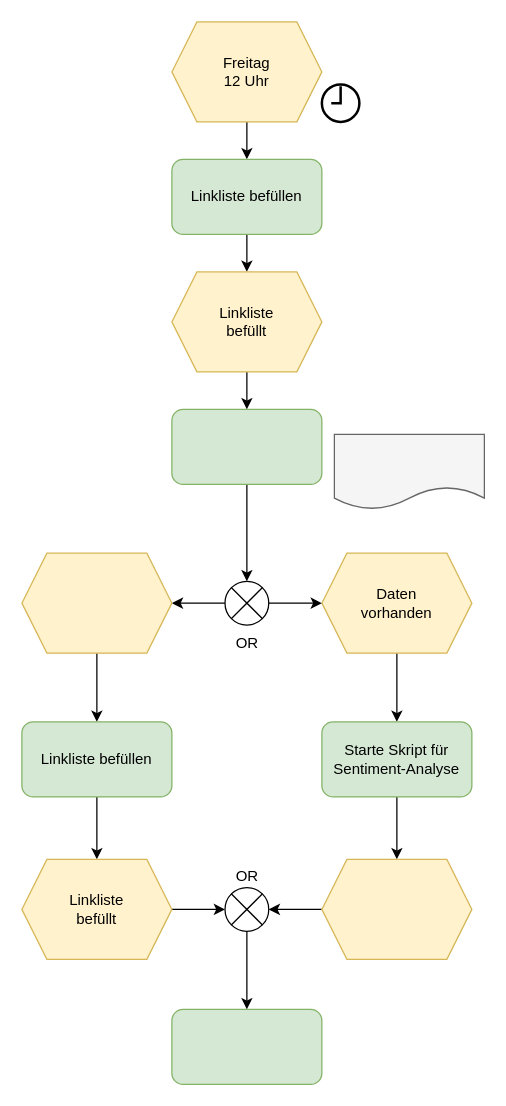
Some shapes in this 506 by 1106 pixel diagram are drawn without their labels. Each missing label, with the box of its shape:
Datenbank befüllt: (321, 858, 472, 959)
Keine Daten vorhanden: (21, 552, 172, 653)
Linkliste: (333, 433, 484, 509)
Prozess abgeschlossen: (171, 1008, 322, 1084)
Starte Scrapping Skript: (171, 408, 322, 484)
